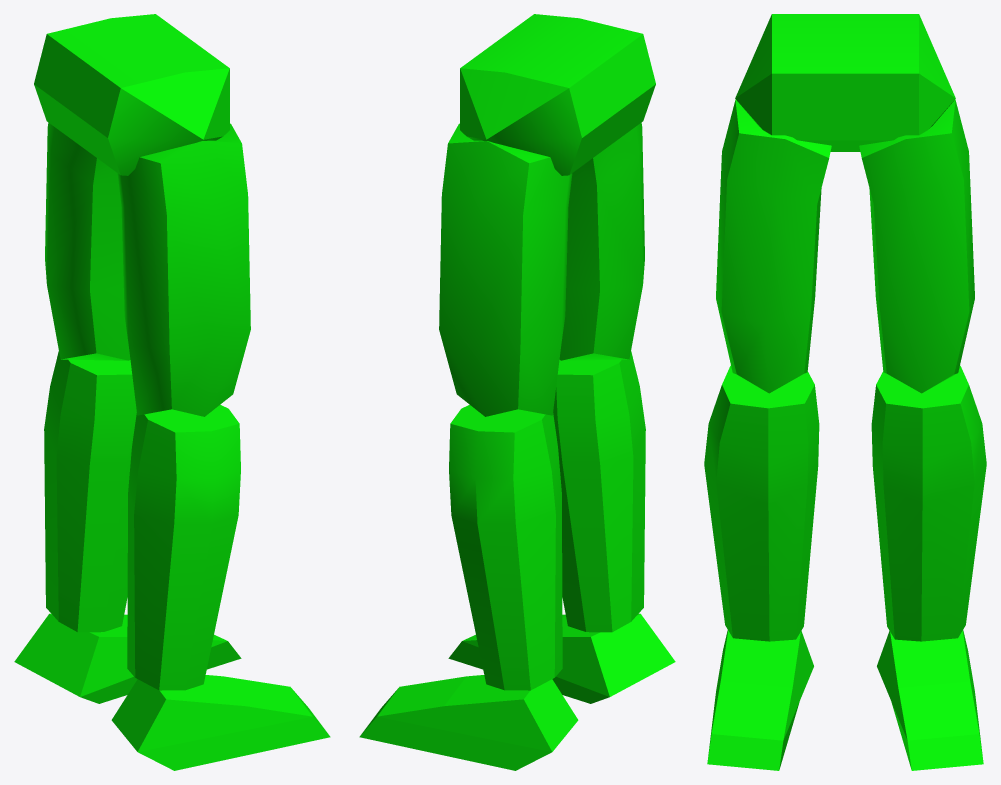
File: Garry_legs.fbx
The picture shows the model from 3 angles, left to right: view 1: azimuth 30°, elevation 25°; view 2: azimuth 150°, elevation 25°; view 3: azimuth 270°, elevation 25°; orthographic projection.
Visible parts, largest first — view 1: Garry; view 2: Garry; view 3: Garry.
Boxes of the visible parts, x1=… form: Garry: x1=14, y1=14, x2=330, y2=770; Garry: x1=359, y1=14, x2=675, y2=770; Garry: x1=704, y1=14, x2=986, y2=770.
Size of the model in its own units: 31.8 by 99.57 by 38.4.
